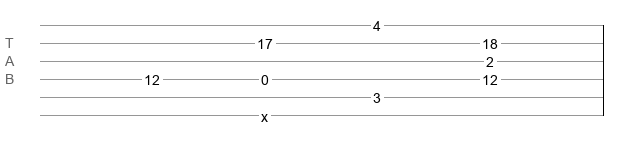0: (261, 72, 269, 82)
12: (144, 72, 160, 82), (482, 72, 498, 82)
17: (257, 36, 273, 46)
18: (482, 36, 498, 46)
2: (486, 54, 494, 64)
3: (373, 90, 381, 100)
4: (373, 18, 381, 28)
x: (261, 109, 268, 117)
